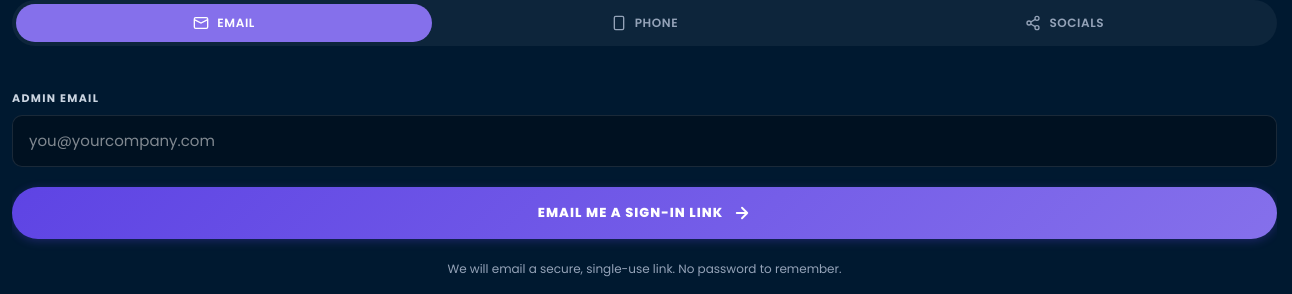
Test: LoginForm › phone tab › shows phone OTP form when phone tab is selected
Click the tab "Phone": (644, 23) top-left (436, 4), bottom-right (853, 42)
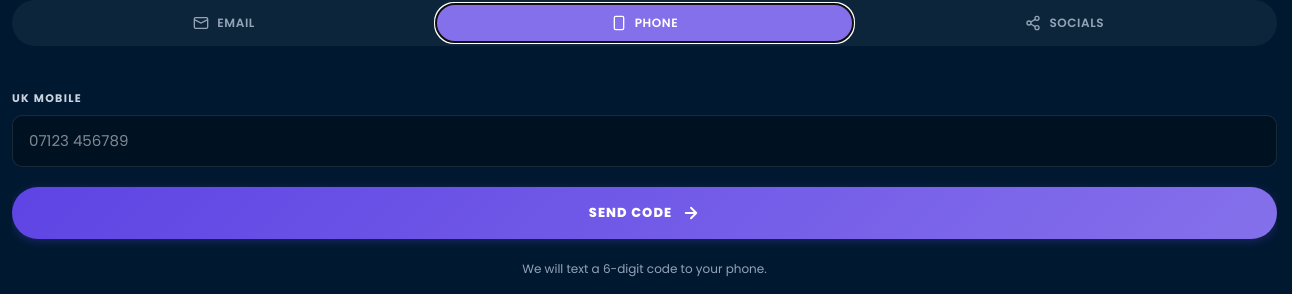
expect the field labelled "UK Mobile" is shown: met, box top-left (12, 114), bottom-right (1277, 167)
expect the button "Send code" is shown: met, box top-left (12, 187), bottom-right (1277, 238)
